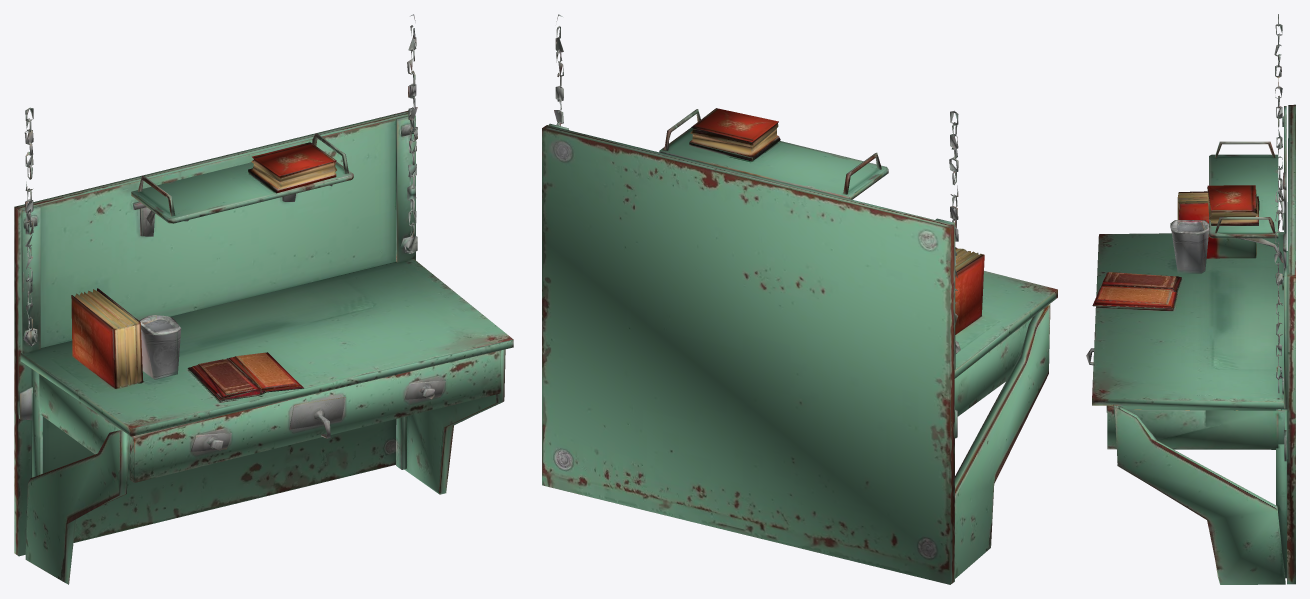
The model's file is cell_table.glb.
3 renders of one model, left to right at view 1: azimuth 30°, elevation 25°; view 2: azimuth 150°, elevation 25°; view 3: azimuth 270°, elevation 25°, orthographic. The views are drawn at different scales.
Size of the model in its own units: 0.6833 by 0.75 by 0.3523.
1 material, 1 textured.
